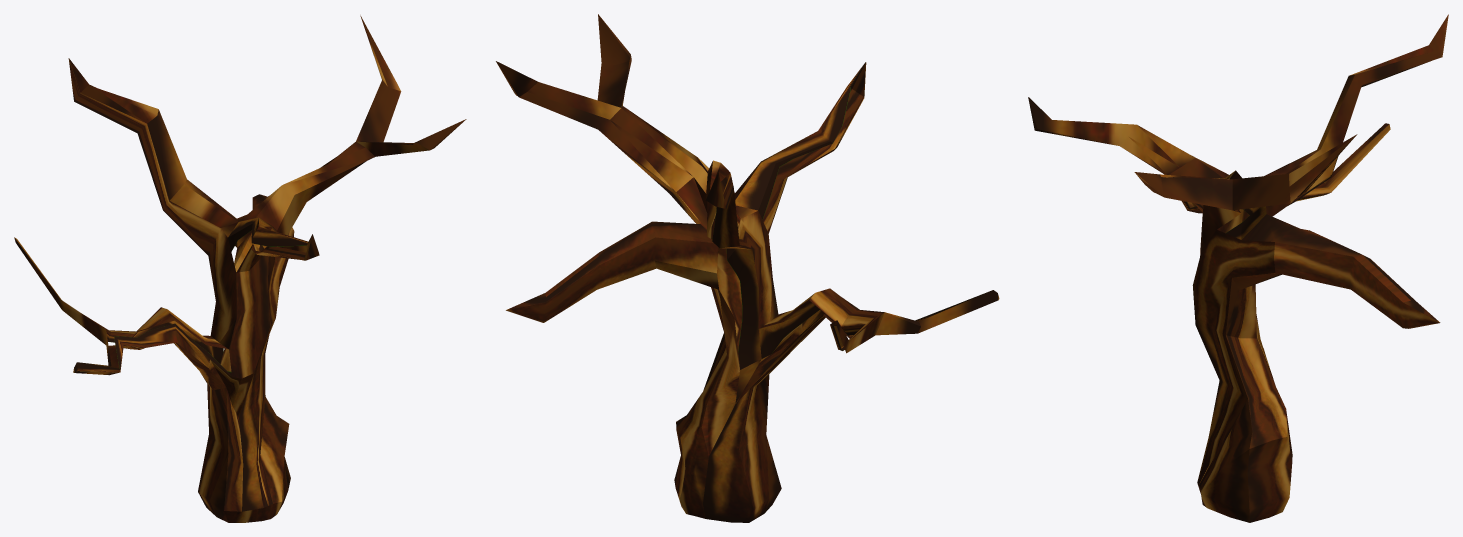
The model's file is tree_trunk_100m.DAE.
The picture shows the model from 3 angles, left to right: view 1: azimuth 30°, elevation 25°; view 2: azimuth 150°, elevation 25°; view 3: azimuth 270°, elevation 25°; orthographic projection. The views are drawn at different scales.
Parts seen in each view (by area): view 1: Box01; view 2: Box01; view 3: Box01.
Boxes of the visible parts, x1,y1,x2,y2 form: Box01: (14,15,466,522); Box01: (496,14,999,522); Box01: (1028,14,1448,522).
Size of the model in its own units: 80.86 by 84.33 by 68.67.
